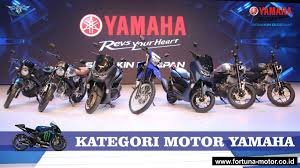motor: (167, 58, 212, 108), (129, 49, 160, 116), (44, 63, 83, 113), (87, 61, 119, 117), (12, 123, 68, 152)
